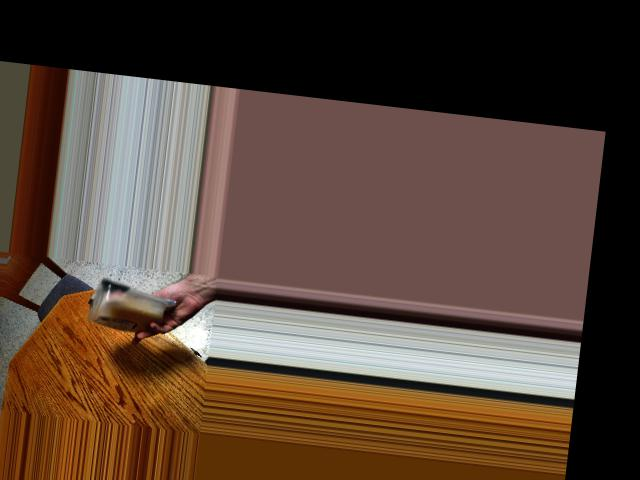cheese: (91, 283, 163, 334)
